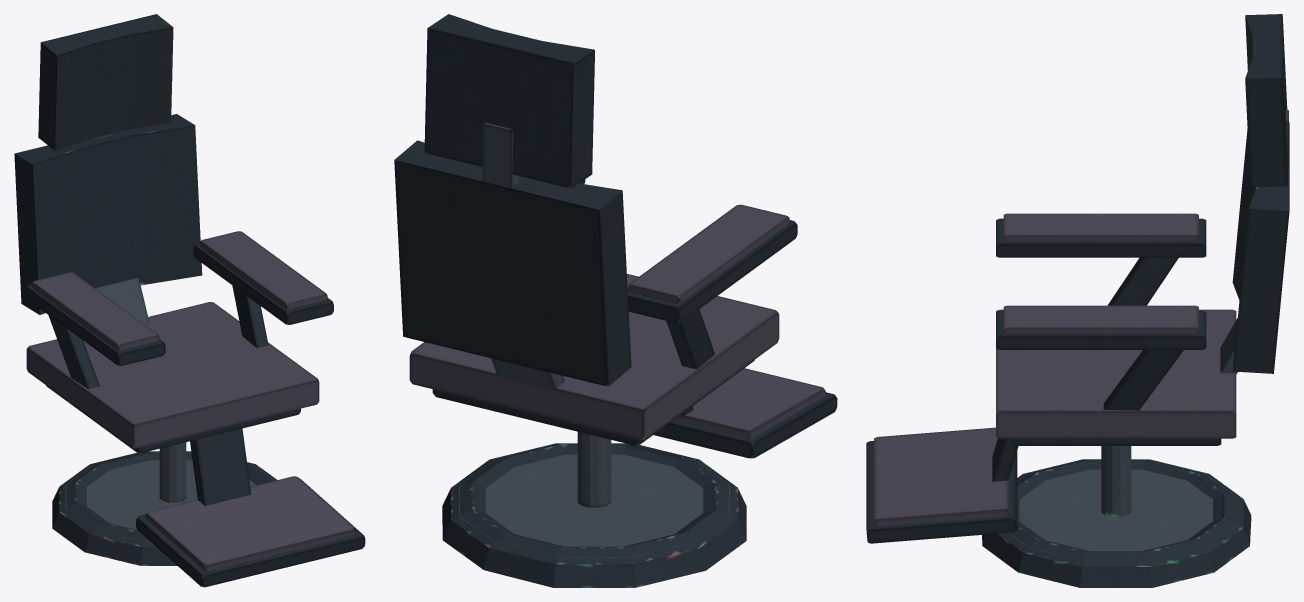
The model's file is Chair.fbx.
The picture shows the model from 3 angles, left to right: view 1: azimuth 30°, elevation 25°; view 2: azimuth 150°, elevation 25°; view 3: azimuth 270°, elevation 25°; orthographic projection. The views are drawn at different scales.
Visible parts, largest first — view 1: mesh_3, mesh_1, mesh_5, mesh_14, torus, cylinder, mesh_11, mesh_8, mesh_13, mesh_12, mesh_7, mesh_10 (+5 smaller); view 2: mesh_3, mesh_5, mesh_1, torus, cylinder, mesh_11, mesh_14, mesh_13, mesh_10, cylinder_1, mesh_4, mesh (+2 smaller); view 3: mesh_1, torus, cylinder, mesh_14, mesh_3, mesh_5, mesh_8, mesh_11, mesh_13, mesh_10, mesh_7, mesh_6 (+5 smaller).
Boxes of the visible parts, <box> form: mesh_3: <box>14,114,202,314</box>; mesh_1: <box>26,302,319,448</box>; mesh_5: <box>38,14,173,150</box>; mesh_14: <box>145,476,356,576</box>; torus: <box>52,451,276,565</box>; cylinder: <box>65,453,274,541</box>; mesh_11: <box>31,272,159,350</box>; mesh_8: <box>200,231,327,309</box>; mesh_13: <box>136,478,365,587</box>; mesh_12: <box>190,428,251,505</box>; mesh_7: <box>193,243,333,324</box>; mesh_10: <box>25,284,165,365</box>; mesh_3: <box>394,140,631,386</box>; mesh_5: <box>424,14,594,188</box>; mesh_1: <box>409,274,779,439</box>; torus: <box>442,443,746,587</box>; cylinder: <box>459,443,729,557</box>; mesh_11: <box>628,204,789,303</box>; mesh_14: <box>673,368,825,445</box>; mesh_13: <box>654,392,837,458</box>; mesh_10: <box>627,220,797,322</box>; cylinder_1: <box>577,432,611,507</box>; mesh_4: <box>482,122,520,188</box>; mesh: <box>432,360,754,445</box>; mesh_1: <box>996,309,1236,438</box>; torus: <box>982,459,1251,587</box>; cylinder: <box>1008,459,1236,561</box>; mesh_14: <box>874,427,1009,526</box>; mesh_3: <box>1232,122,1289,373</box>; mesh_5: <box>1245,14,1287,187</box>; mesh_8: <box>1003,305,1198,334</box>; mesh_11: <box>1003,213,1198,242</box>; mesh_13: <box>866,441,1017,543</box>; mesh_10: <box>996,218,1206,257</box>; mesh_7: <box>996,311,1206,349</box>; mesh_6: <box>1103,350,1183,410</box>.
Bounding box in the file's own units: 116 × 223 × 176.
Materials: 1 (1 with a texture image).
